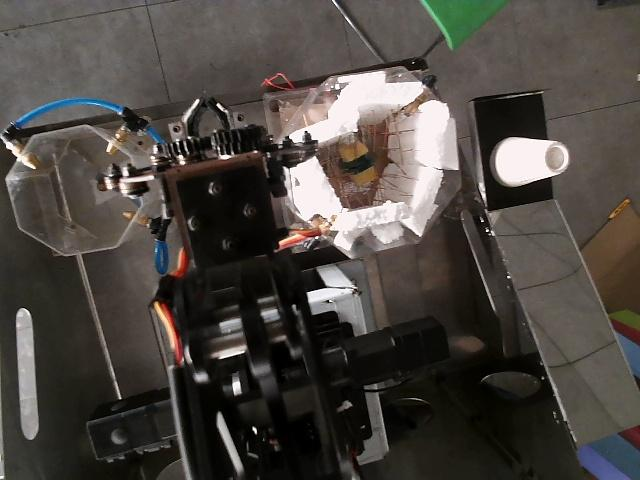cup: (492, 137, 569, 186)
